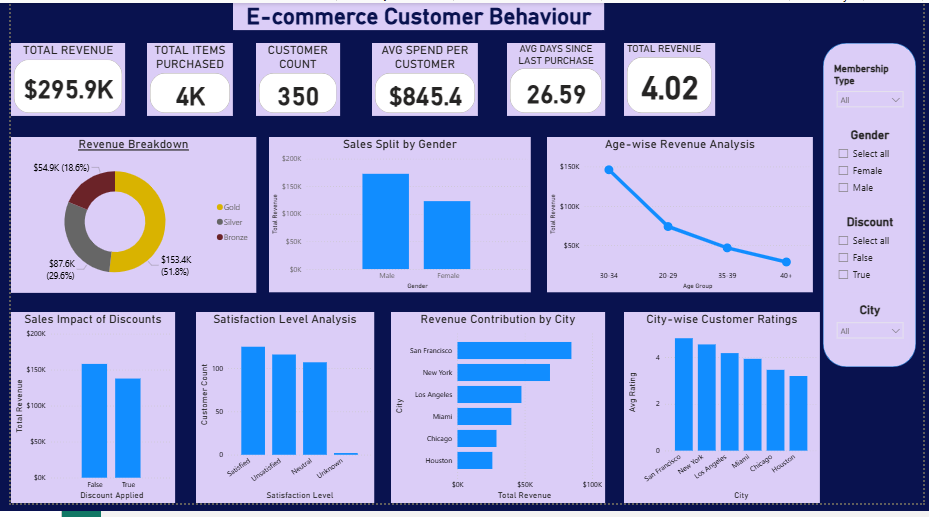

This screenshot's page, from the dashboard's own definition file:
{"tool":"powerbi","page":{"name":"Page 2","canvas":[1550,850],"ordinal":0},"visuals":[{"type":"textbox","title":"E-commerce Customer Behaviour","box":[377.8,0,631.5,46.3],"z":0},{"type":"cardVisual","title":"TOTAL REVENUE","fields":{"Data":["E-commerce Customer Behavior - Sheet1.Total Revenue"]},"box":[0,68.5,194.4,124.1],"z":5000},{"type":"cardVisual","title":"TOTAL ITEMS PURCHASED","fields":{"Data":["E-commerce Customer Behavior - Sheet1.Total Items Purchased"]},"box":[231.2,68,146.2,124.1],"z":6000},{"type":"clusteredBarChart","title":"Revenue Contribution by City","fields":{"Category":["E-commerce Customer Behavior - Sheet1.City"],"Y":["E-commerce Customer Behavior - Sheet1.Total Revenue"]},"box":[646,525.3,363.8,324.7],"z":7000},{"type":"donutChart","title":"Revenue Breakdown","fields":{"Y":["E-commerce Customer Behavior - Sheet1.Total Revenue"],"Category":["E-commerce Customer Behavior - Sheet1.Membership Type"]},"box":[0,227.8,416.5,265.2],"z":8000},{"type":"clusteredColumnChart","title":"Sales Impact of Discounts","fields":{"Category":["E-commerce Customer Behavior - Sheet1.Discount Applied"],"Y":["E-commerce Customer Behavior - Sheet1.Total Revenue"]},"box":[0,525.3,278.8,324.7],"z":9000},{"type":"columnChart","title":"Sales Split by Gender","fields":{"Category":["E-commerce Customer Behavior - Sheet1.Gender"],"Y":["E-commerce Customer Behavior - Sheet1.Total Revenue"]},"box":[438.6,227.8,445.4,263.5],"z":10000},{"type":"lineChart","title":"Age-wise Revenue Analysis","fields":{"Category":["E-commerce Customer Behavior - Sheet1.Age Group"],"Y":["E-commerce Customer Behavior - Sheet1.Total Revenue"]},"box":[911.2,227.8,452.2,263.5],"z":11000},{"type":"clusteredColumnChart","title":" Satisfaction Level Analysis","fields":{"Category":["E-commerce Customer Behavior - Sheet1.Satisfaction Level"],"Y":["E-commerce Customer Behavior - Sheet1.Customer Count"]},"box":[314.5,525.3,302.6,324.7],"z":12000},{"type":"clusteredColumnChart","title":"City-wise Customer Ratings","fields":{"Category":["E-commerce Customer Behavior - Sheet1.City"],"Y":["E-commerce Customer Behavior - Sheet1.Avg Rating"]},"box":[1042.1,525.3,333.2,324.7],"z":13000},{"type":"cardVisual","title":"CUSTOMER COUNT","fields":{"Data":["E-commerce Customer Behavior - Sheet1.Customer Count"]},"box":[416.7,68.5,142.6,124.1],"z":14000},{"type":"cardVisual","title":"AVG SPEND PER CUSTOMER","fields":{"Data":["E-commerce Customer Behavior - Sheet1.Avg Spend per Customer"]},"box":[613.7,68,180.2,124.1],"z":15000},{"type":"cardVisual","title":"AVG DAYS SINCE LAST PURCHASE","fields":{"Data":["E-commerce Customer Behavior - Sheet1.Avg Days Since Last Purchase"]},"box":[842.6,68.5,166.7,124.1],"z":16000},{"type":"cardVisual","title":"TOTAL REVENUE","fields":{"Data":["E-commerce Customer Behavior - Sheet1.Avg Rating"]},"box":[1042.1,68,154.7,124.1],"z":17000},{"type":"shape","box":[1380.4,68,158.1,550.8],"z":18000},{"type":"slicer","title":"Membership Type","fields":{"Values":["E-commerce Customer Behavior - Sheet1.Membership Type"]},"box":[1394,102,132.6,110.5],"z":18500},{"type":"slicer","title":"Gender","fields":{"Values":["E-commerce Customer Behavior - Sheet1.Gender"]},"box":[1394,212.5,132.6,130.9],"z":19000},{"type":"slicer","title":"Discount","fields":{"Values":["E-commerce Customer Behavior - Sheet1.Discount Applied"]},"box":[1394,360.4,132.6,130.9],"z":19500},{"type":"slicer","title":"City","fields":{"Values":["E-commerce Customer Behavior - Sheet1.City"]},"box":[1394,510,132.6,78.2],"z":20000}]}

Visuals, with their boxes in screenshot pixels (x1, y1, x2, y2), scaled from the page's 1550x850 canvas onto the 929x517 screenshot:
"E-commerce Customer Behaviour" textbox: <box>226,0,605,28</box>
"TOTAL REVENUE" cardVisual: <box>0,42,117,117</box>
"TOTAL ITEMS PURCHASED" cardVisual: <box>139,41,226,117</box>
"Revenue Contribution by City" clusteredBarChart: <box>387,320,605,516</box>
"Revenue Breakdown" donutChart: <box>0,139,250,300</box>
"Sales Impact of Discounts" clusteredColumnChart: <box>0,320,167,516</box>
"Sales Split by Gender" columnChart: <box>263,139,530,299</box>
"Age-wise Revenue Analysis" lineChart: <box>546,139,817,299</box>
" Satisfaction Level Analysis" clusteredColumnChart: <box>188,320,370,516</box>
"City-wise Customer Ratings" clusteredColumnChart: <box>625,320,824,516</box>
"CUSTOMER COUNT" cardVisual: <box>250,42,335,117</box>
"AVG SPEND PER CUSTOMER" cardVisual: <box>368,41,476,117</box>
"AVG DAYS SINCE LAST PURCHASE" cardVisual: <box>505,42,605,117</box>
"TOTAL REVENUE" cardVisual: <box>625,41,717,117</box>
shape: <box>827,41,922,376</box>
"Membership Type" slicer: <box>836,62,915,129</box>
"Gender" slicer: <box>836,129,915,209</box>
"Discount" slicer: <box>836,219,915,299</box>
"City" slicer: <box>836,310,915,358</box>
